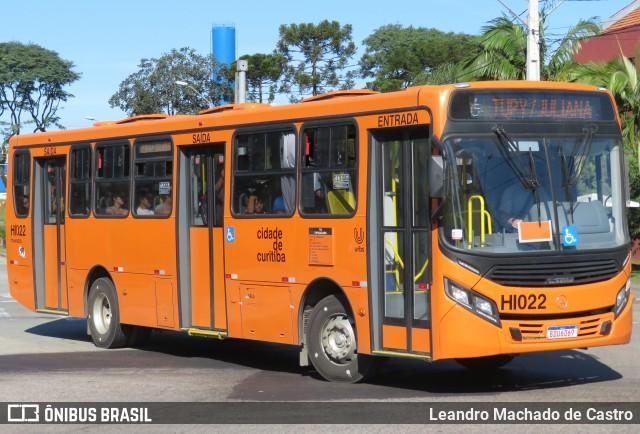TUPY JULIANA: (485, 94, 596, 123)
